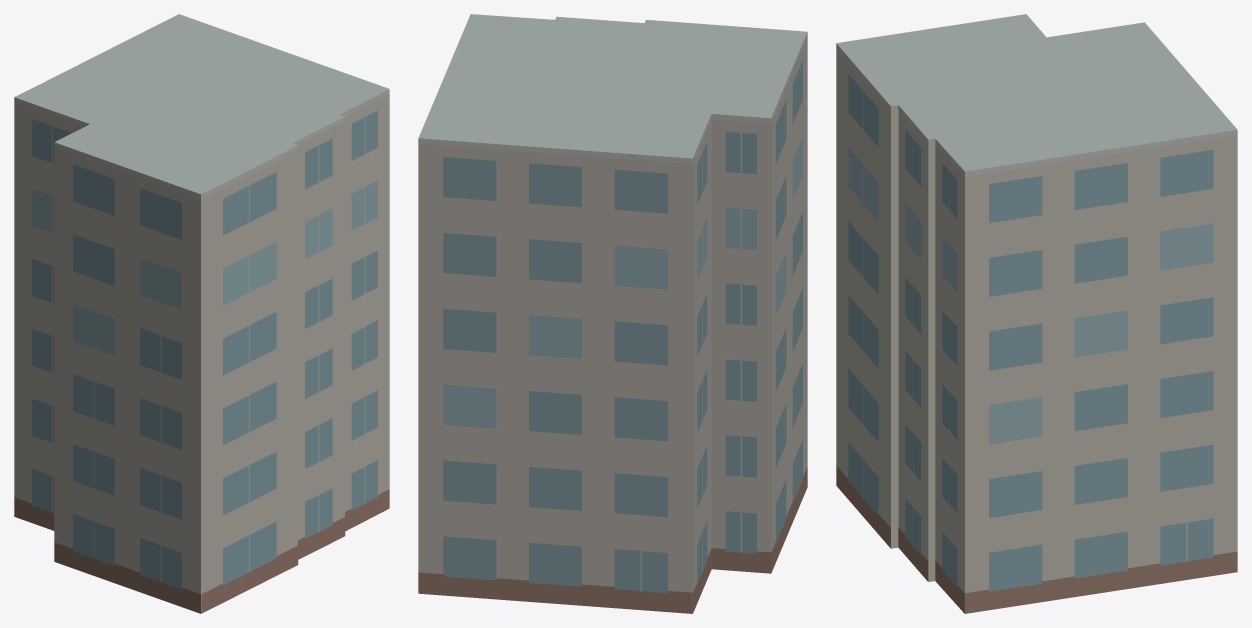
File: survey-upis-32824311.glb
The picture shows the model from 3 angles, left to right: view 1: azimuth 30°, elevation 25°; view 2: azimuth 150°, elevation 25°; view 3: azimuth 270°, elevation 25°; orthographic projection. The views are drawn at different scales.
Parts seen in each view (by area): view 1: survey-upis-32824311.tmp; view 2: survey-upis-32824311.tmp; view 3: survey-upis-32824311.tmp.
Boxes of the visible parts, left/top/right/bottom form: survey-upis-32824311.tmp: left=14, top=14, right=389, bottom=613; survey-upis-32824311.tmp: left=418, top=14, right=807, bottom=613; survey-upis-32824311.tmp: left=836, top=14, right=1237, bottom=613.
Size of the model in its own units: 15.42 by 20.18 by 16.61.
